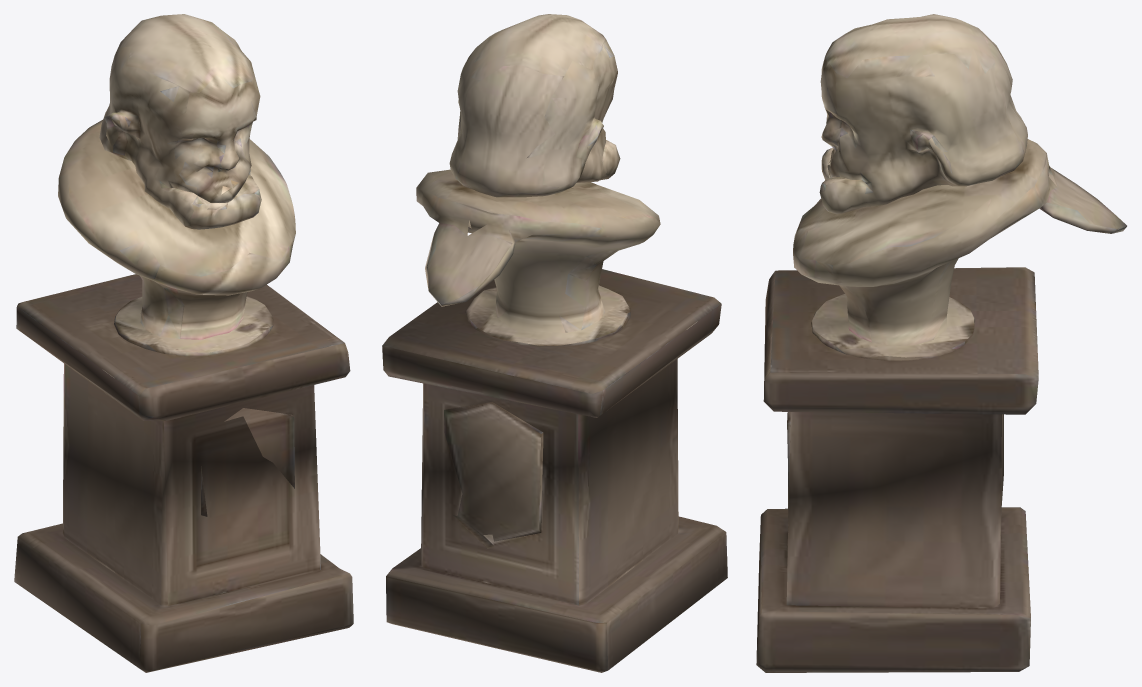
The model's file is sd_estatua.glb.
The picture shows the model from 3 angles, left to right: view 1: azimuth 30°, elevation 25°; view 2: azimuth 150°, elevation 25°; view 3: azimuth 270°, elevation 25°; orthographic projection. The views are drawn at different scales.
Parts seen in each view (by area): view 1: Mesh_0.010; view 2: Mesh_0.010; view 3: Mesh_0.010.
Boxes of the visible parts, x1=… form: Mesh_0.010: x1=14, y1=14, x2=353, y2=672; Mesh_0.010: x1=382, y1=14, x2=727, y2=672; Mesh_0.010: x1=756, y1=14, x2=1126, y2=672.
Bounding box in the file's own units: 0.1416 × 0.3631 × 0.2023.
1 material, 1 textured.
